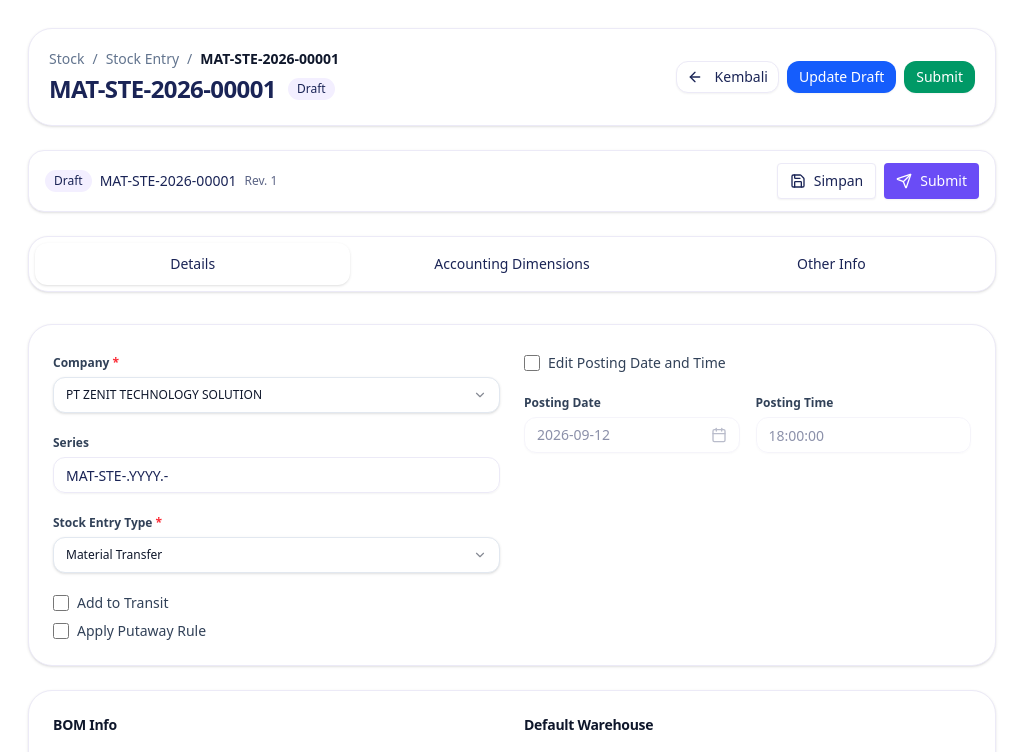
Test: StockEntryFormPage Submittable Workflow › renders existing draft stock entry and submits it
Click the button "Submit" in the row of "Kembali": (940, 77) left=904, top=61, right=975, bottom=93
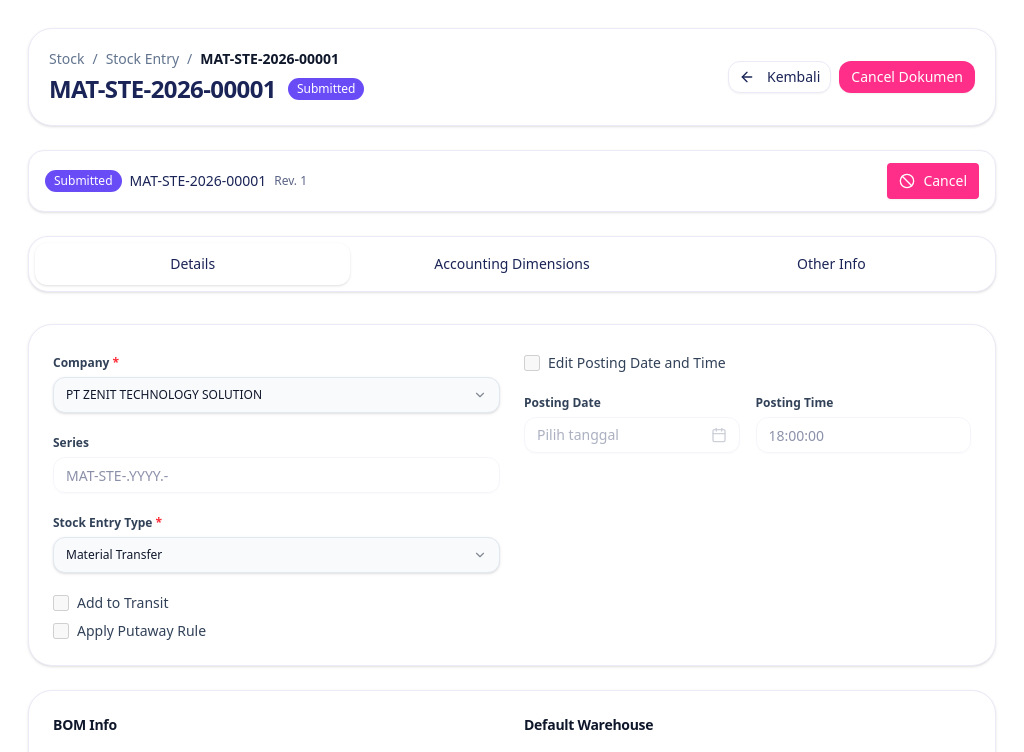
Expected: the button "Cancel Dokumen" is shown, left=839, top=61, right=975, bottom=93
